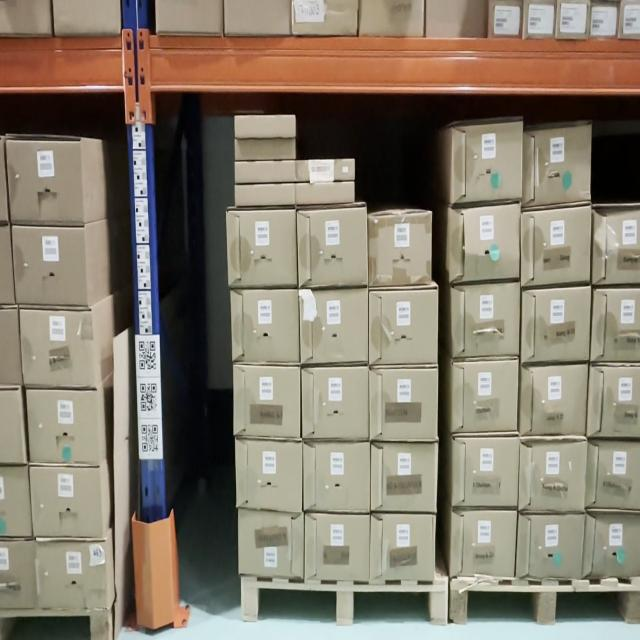box: (12, 228, 90, 304), (11, 140, 80, 223), (522, 204, 590, 288), (370, 286, 437, 366), (298, 210, 367, 286), (27, 390, 98, 463), (25, 310, 93, 386), (453, 204, 519, 282), (454, 126, 521, 201), (229, 210, 295, 285), (232, 290, 299, 362), (452, 360, 518, 432), (521, 436, 584, 511), (370, 372, 437, 442), (302, 291, 367, 363), (237, 440, 301, 511), (302, 370, 368, 438), (521, 364, 587, 432), (523, 132, 590, 198), (37, 544, 106, 608), (37, 468, 99, 539), (371, 444, 437, 510), (234, 368, 299, 434), (452, 510, 516, 576), (524, 292, 588, 358), (305, 444, 370, 508), (305, 516, 370, 580), (452, 291, 518, 354), (454, 438, 517, 504), (369, 216, 430, 284), (518, 514, 584, 576), (372, 514, 434, 578), (239, 515, 303, 575), (588, 440, 640, 508), (590, 366, 640, 435), (586, 515, 640, 578), (594, 207, 640, 280), (595, 289, 640, 357), (0, 542, 34, 609), (0, 467, 27, 536), (0, 388, 21, 461), (234, 183, 294, 206), (0, 308, 18, 384), (296, 182, 353, 205), (235, 138, 295, 159), (295, 160, 355, 180), (235, 115, 294, 134), (236, 162, 294, 180), (0, 223, 10, 304), (0, 139, 3, 223)
